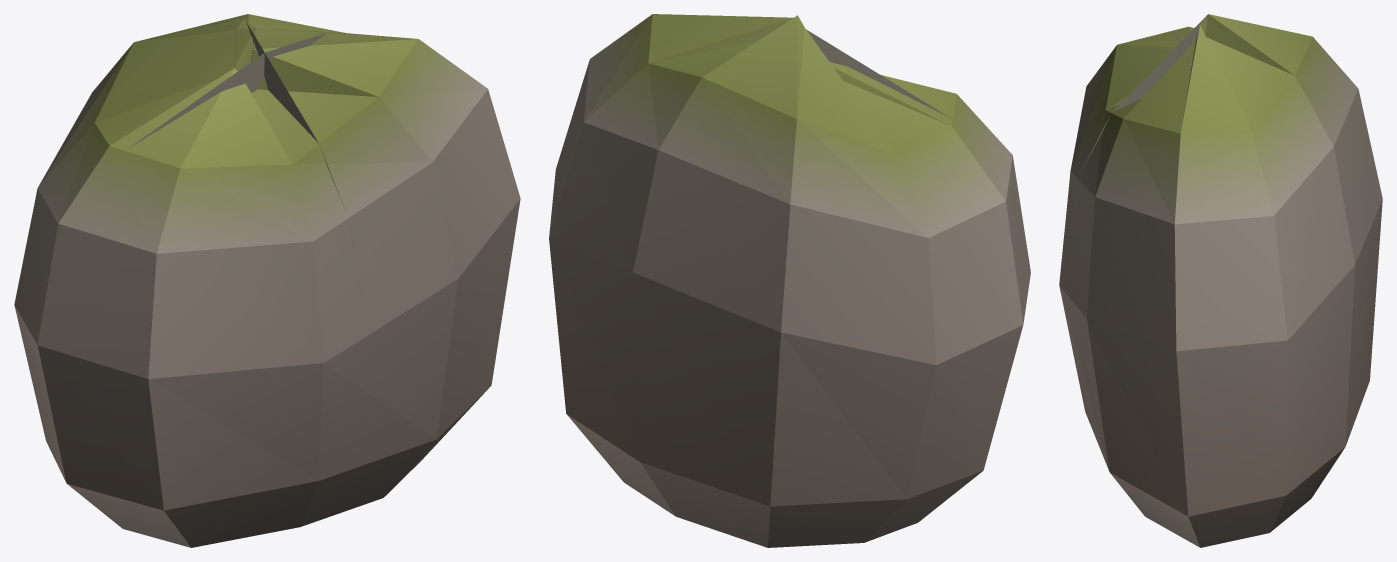
File: Ledge.glb
3 renders of one model, left to right at view 1: azimuth 30°, elevation 25°; view 2: azimuth 150°, elevation 25°; view 3: azimuth 270°, elevation 25°, orthographic. The views are drawn at different scales.
Parts seen in each view (by area): view 1: Whole, Shard4, Shard3, Shard1, Shard2; view 2: Whole, Shard2, Shard1, Shard4, Shard3; view 3: Whole, Shard2, Shard3, Shard1, Shard4.
Part boxes in pixels (left/top/right/bottom): Whole: left=14, top=14, right=520, bottom=547; Shard4: left=36, top=53, right=368, bottom=525; Shard3: left=264, top=33, right=457, bottom=510; Shard1: left=21, top=19, right=264, bottom=450; Shard2: left=233, top=14, right=387, bottom=61; Whole: left=551, top=14, right=1030, bottom=547; Shard2: left=549, top=16, right=795, bottom=524; Shard1: left=694, top=16, right=1015, bottom=544; Shard4: left=807, top=30, right=1029, bottom=537; Shard3: left=557, top=14, right=731, bottom=494; Whole: left=1060, top=14, right=1382, bottom=547; Shard2: left=1182, top=15, right=1368, bottom=504; Shard3: left=1068, top=41, right=1285, bottom=529; Shard1: left=1173, top=14, right=1382, bottom=394; Shard4: left=1059, top=30, right=1184, bottom=321.
Bounding box in the file's own units: 1.33 × 1.29 × 0.8296.
